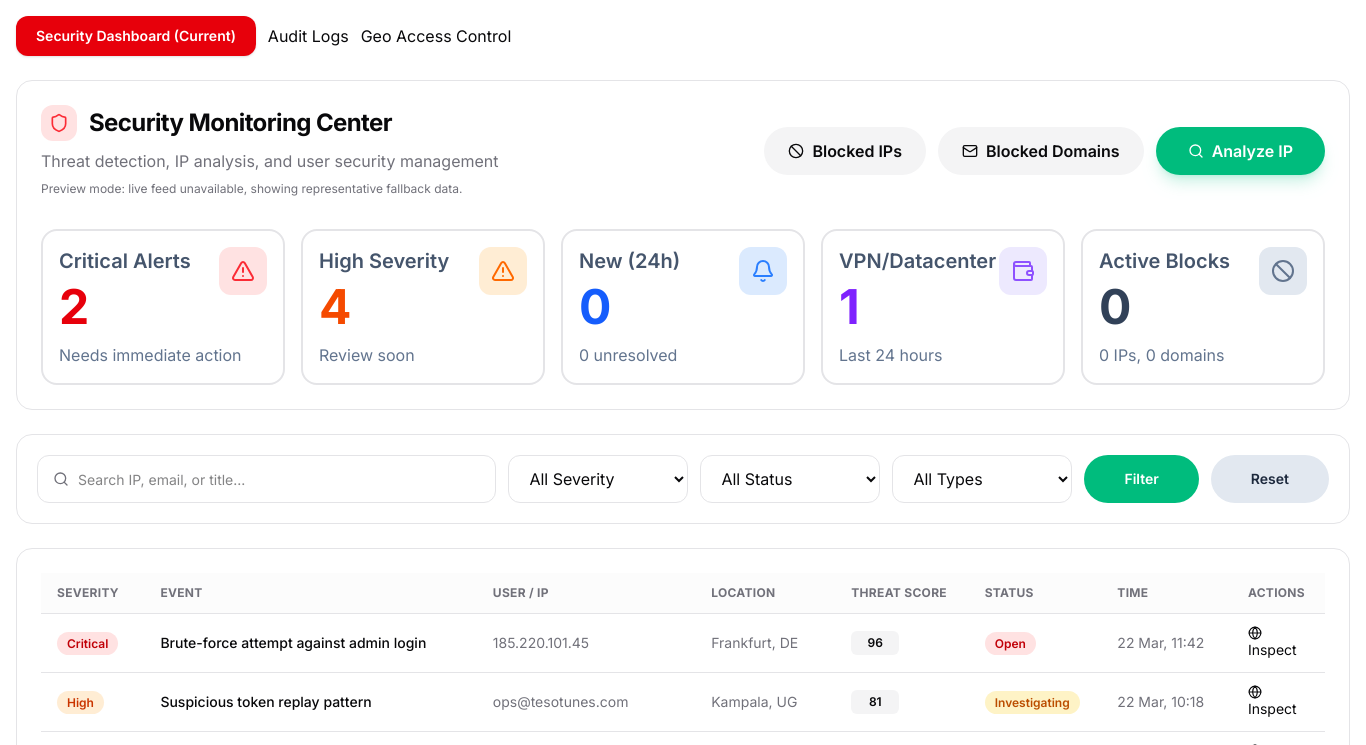
Test case: Admin SecurityDashboardPage › applies search filters only after clicking Filter and resets correctly
Expected: the text "Preview mode: live feed unavailable" is shown, left=41, top=181, right=462, bottom=196
Type "Credential stuffing" into the field named "Search events" at (267,479), box left=37, top=455, right=496, bottom=503
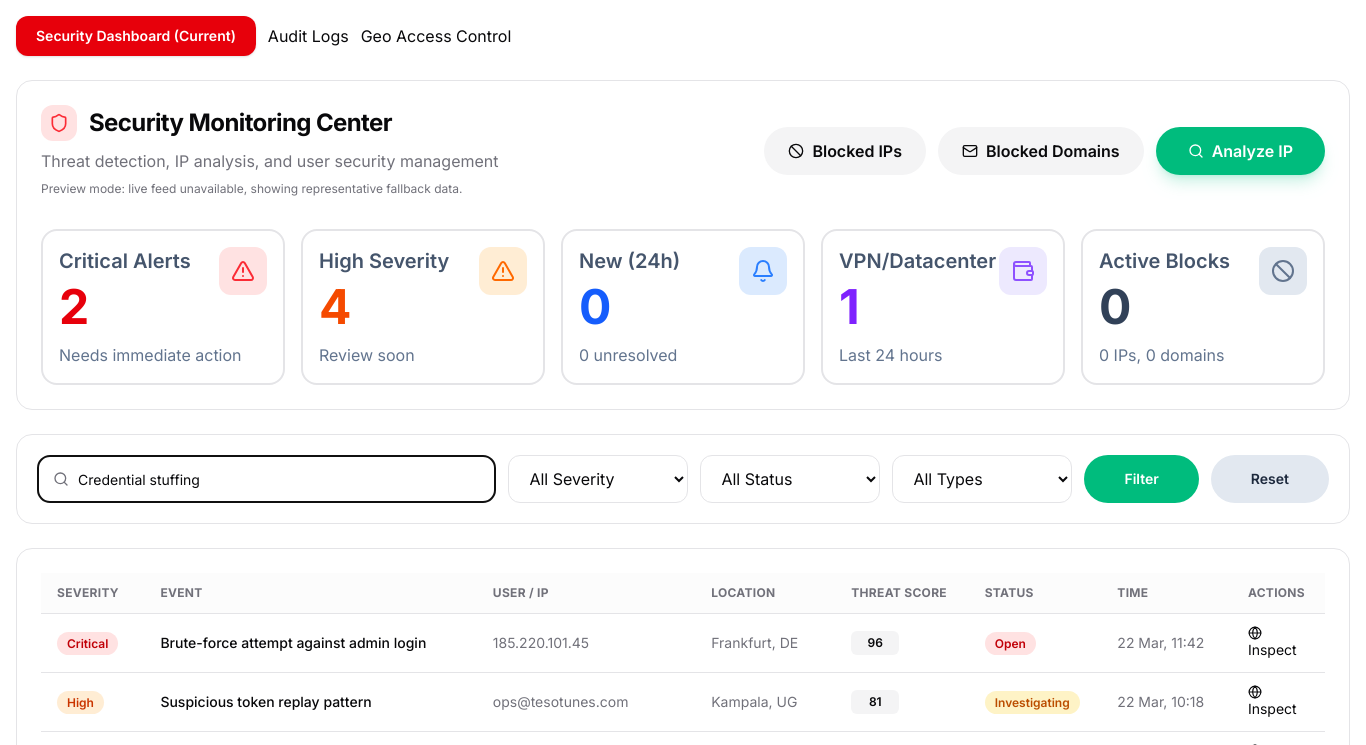
Click the button "Filter" at (1142,479), box left=1084, top=455, right=1199, bottom=503
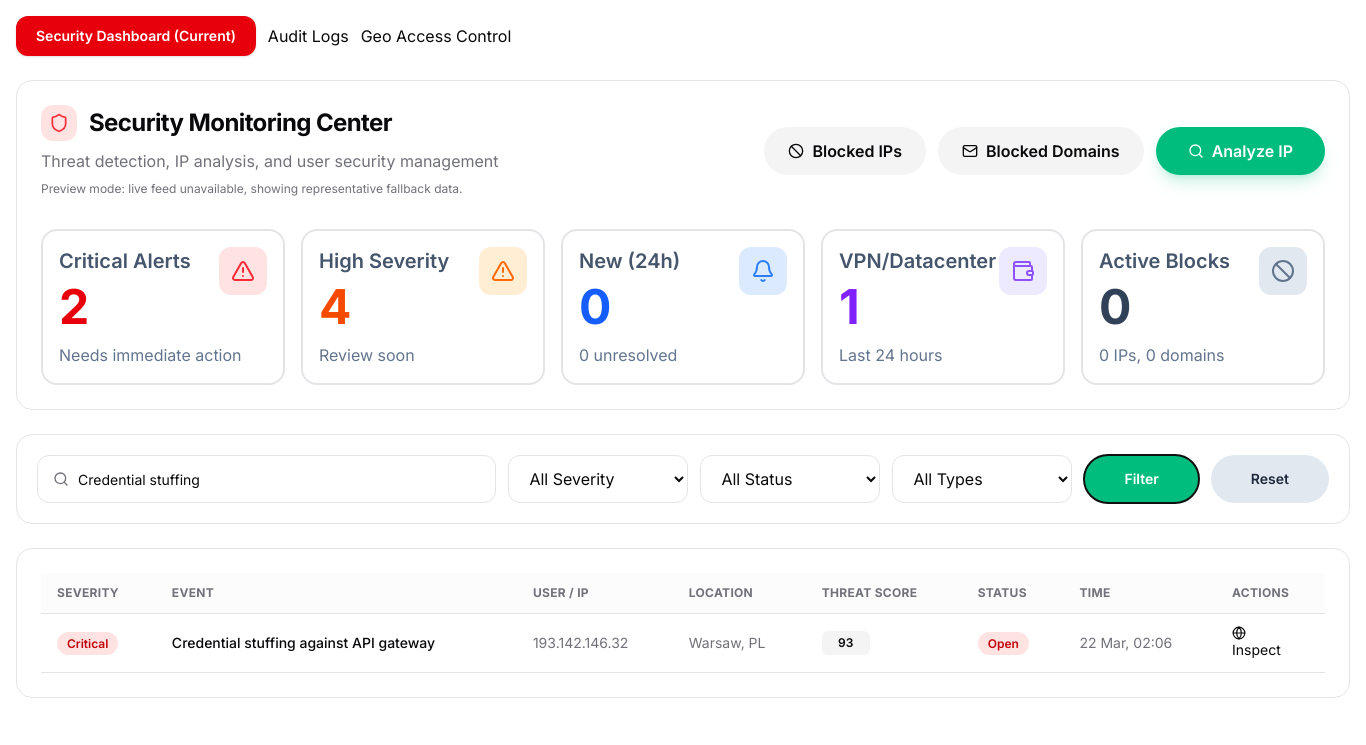
Expected: the text "Credential stuffing against API gateway" is shown, left=156, top=614, right=517, bottom=672
Expected: the text "Brute-force attempt against admin login" is gone
Click the button "Reset" at (1270,479), box left=1211, top=455, right=1329, bottom=503
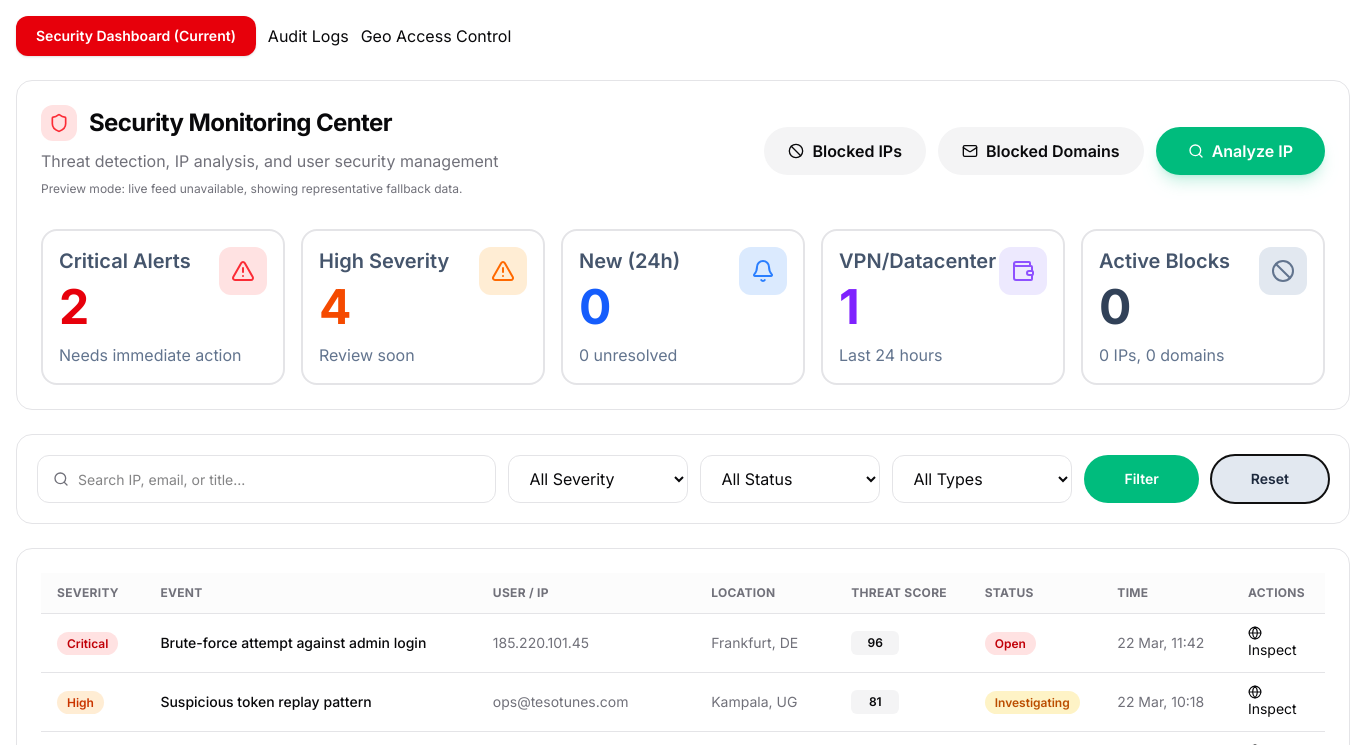
Expected: the text "Brute-force attempt against admin login" is shown, left=144, top=614, right=477, bottom=672
